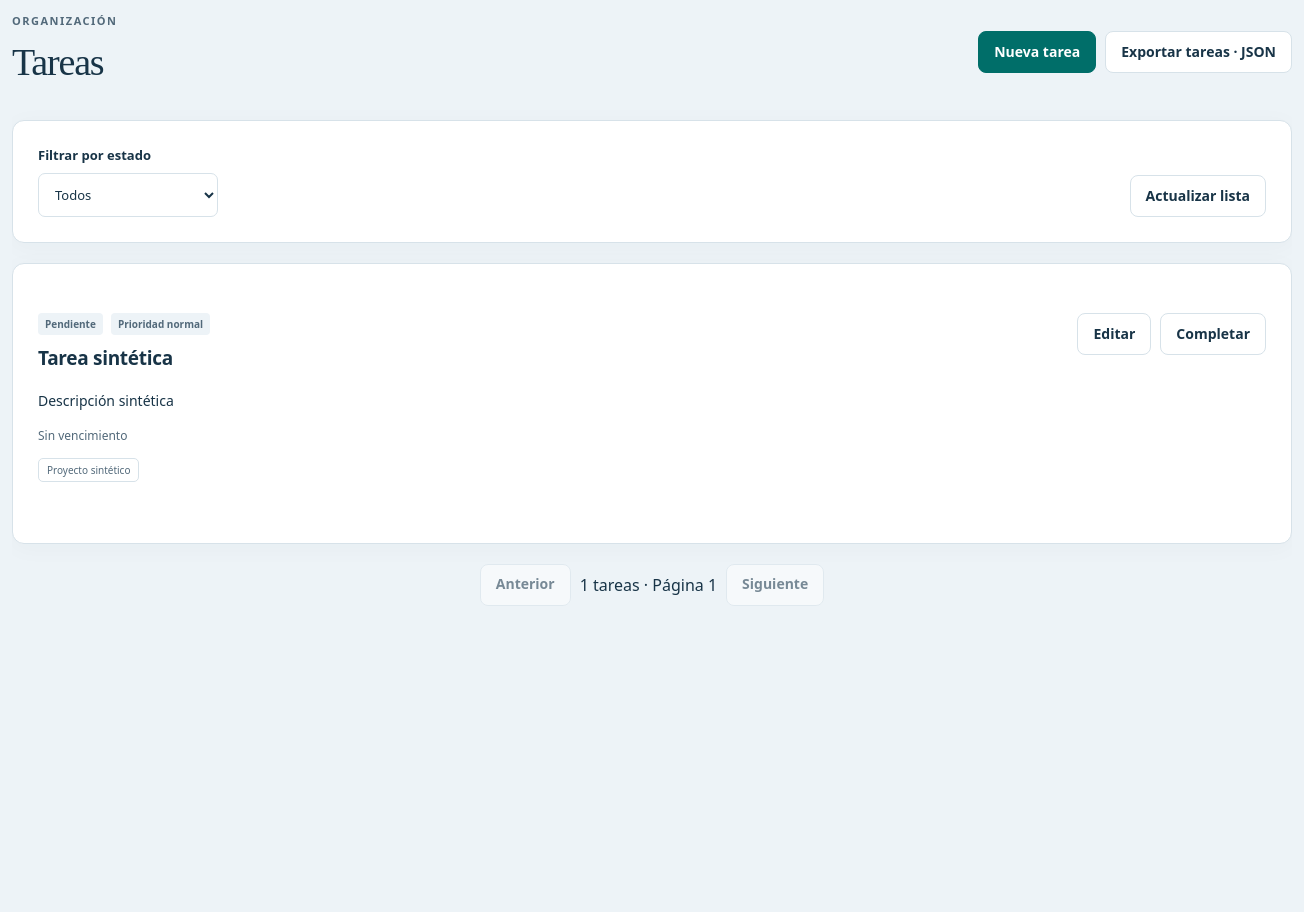
it: Tareas V0.1 › muestra errores de completar y exportar sin quitar la tarea
Check: the heading "Tarea sintética" is shown, box [38,345,173,371]
Click the button "Completar" at (1213, 334), box [1160,313,1266,355]
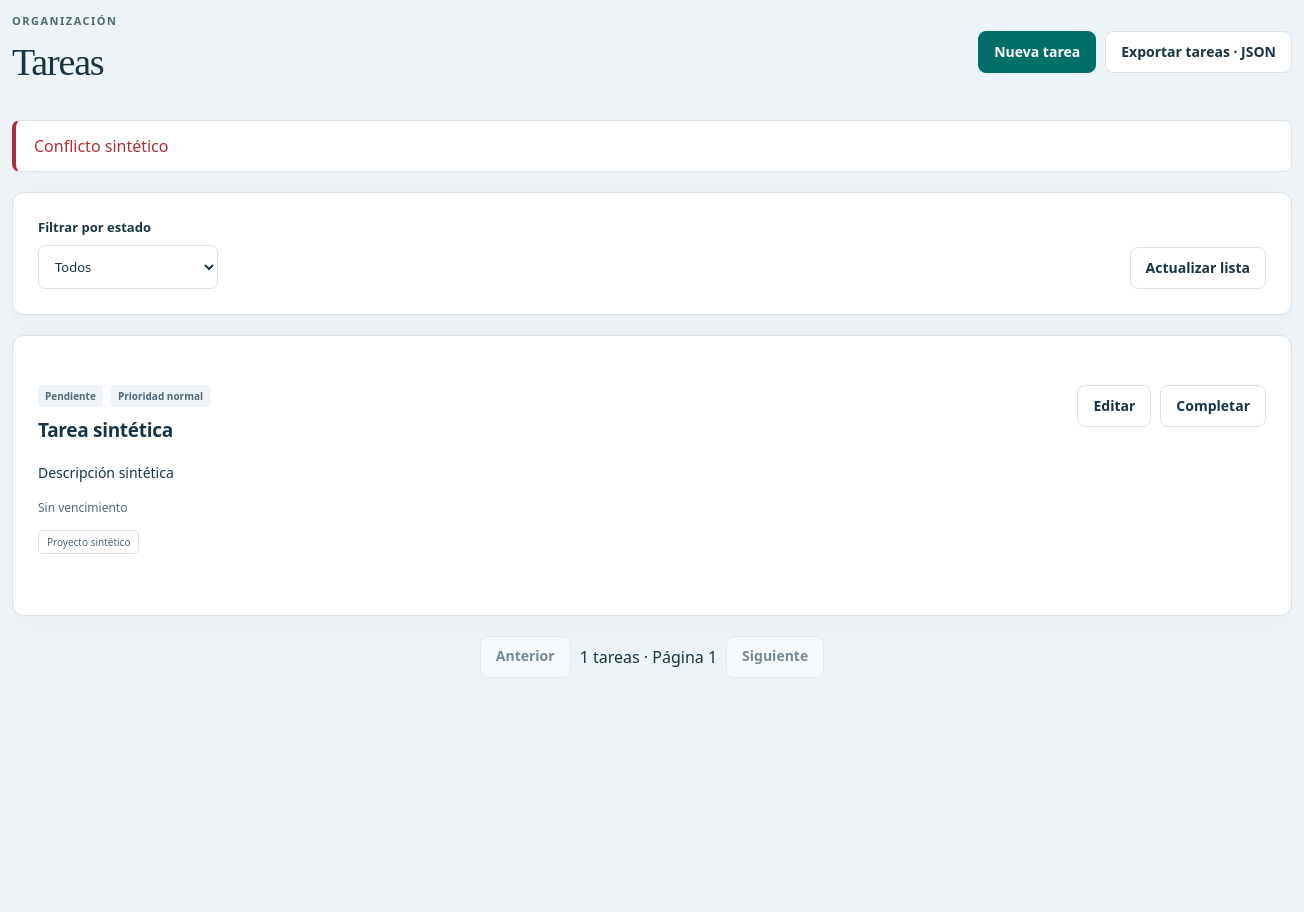
Check: the heading "Tarea sintética" is shown, box [38,417,173,443]
Check: the message reads "Conflicto sintético", box [34,135,168,157]
Click the button "Exportar tareas · JSON" at (1199, 52), box [1105,31,1292,73]
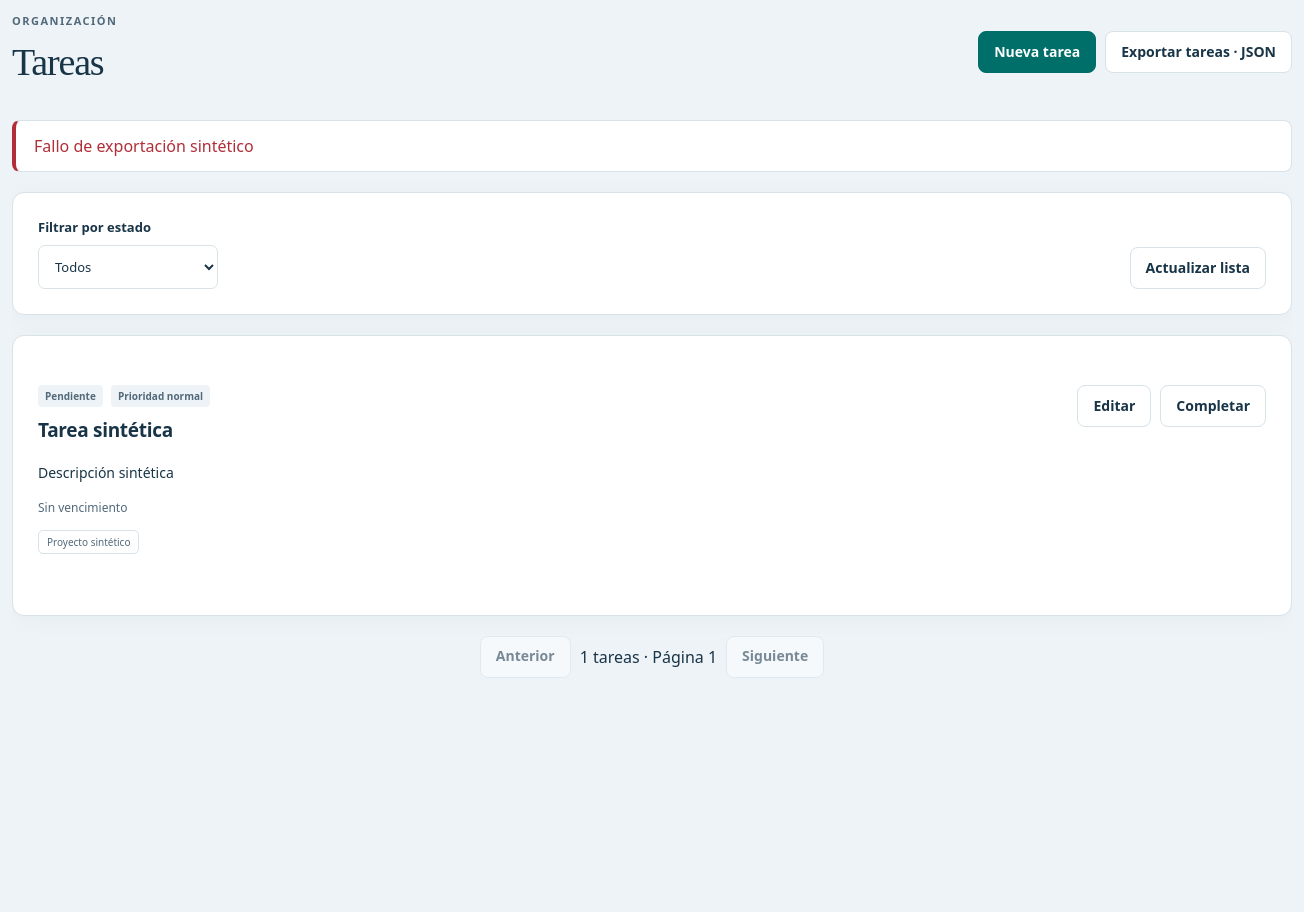
Check: the message reads "Fallo de exportación sintético", box [34,135,254,157]
